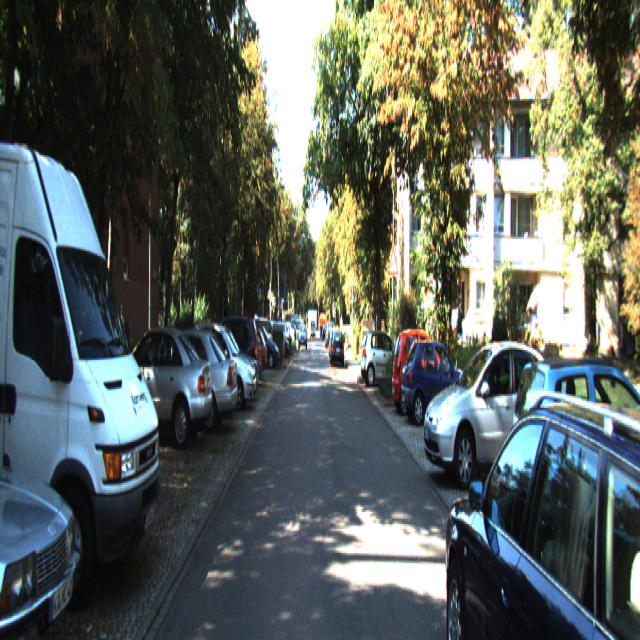Car: (0, 81, 168, 608), (443, 355, 640, 638), (508, 350, 640, 590), (422, 336, 576, 492), (97, 320, 216, 458), (142, 325, 239, 441), (400, 334, 474, 426), (186, 321, 258, 408), (391, 324, 456, 415), (361, 327, 410, 388), (238, 321, 280, 372), (329, 328, 344, 368)
